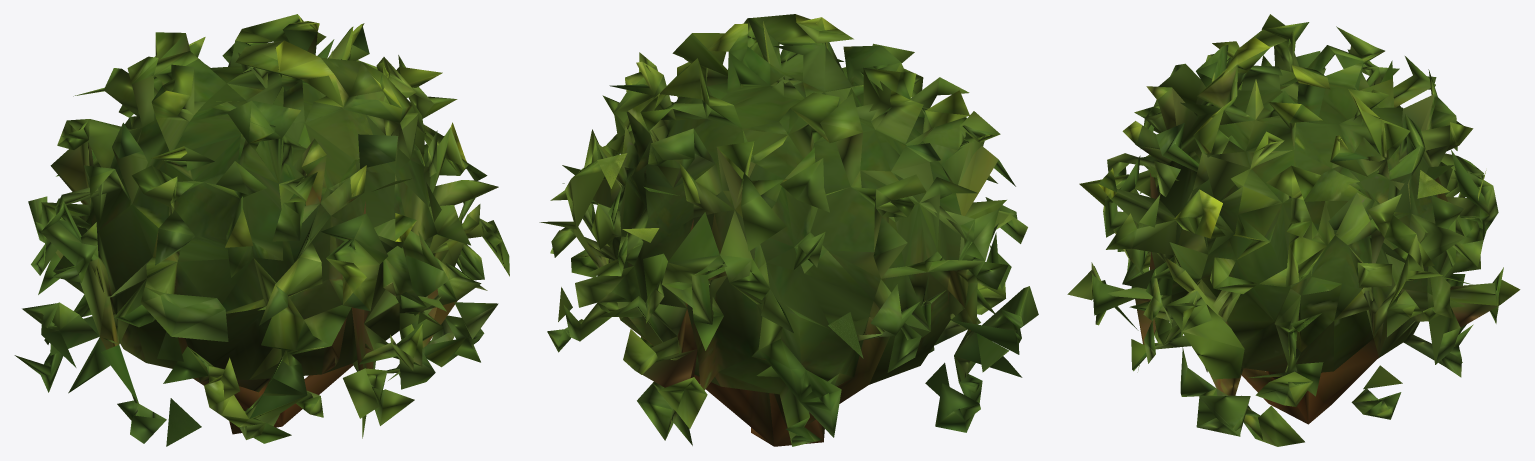
File: gnd_temperate_bush.fbx
The picture shows the model from 3 angles, left to right: view 1: azimuth 30°, elevation 25°; view 2: azimuth 150°, elevation 25°; view 3: azimuth 270°, elevation 25°; orthographic projection. The views are drawn at different scales.
Visible parts, largest first — view 1: gnd_temperate_bush_LOD0; view 2: gnd_temperate_bush_LOD0; view 3: gnd_temperate_bush_LOD0.
Part boxes in pixels (bbox=[...]): gnd_temperate_bush_LOD0: bbox=[14, 14, 509, 446]; gnd_temperate_bush_LOD0: bbox=[539, 14, 1038, 446]; gnd_temperate_bush_LOD0: bbox=[1067, 14, 1520, 446].
Size of what is drawn, in the model's own units: 0.9472 by 0.7786 by 0.8663.
